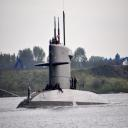submarine: (18, 7, 112, 110)
